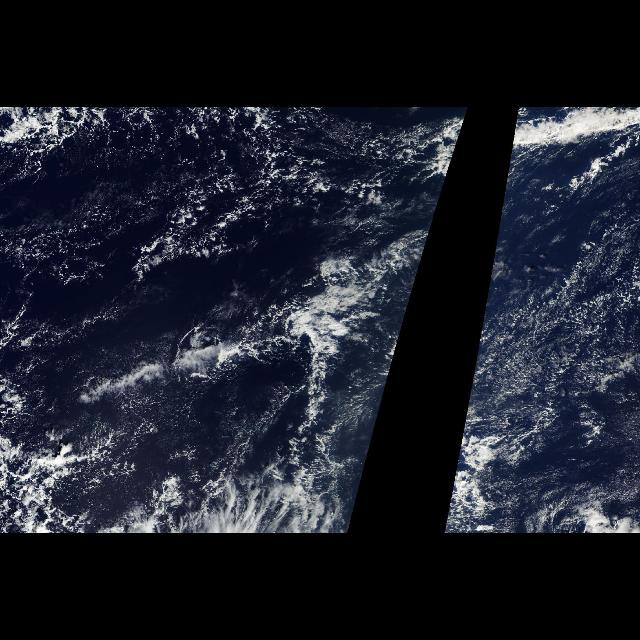Fish: (166, 217, 430, 441)
Gravel: (2, 110, 414, 484), (496, 220, 640, 434)
Sugar: (454, 178, 638, 502)
